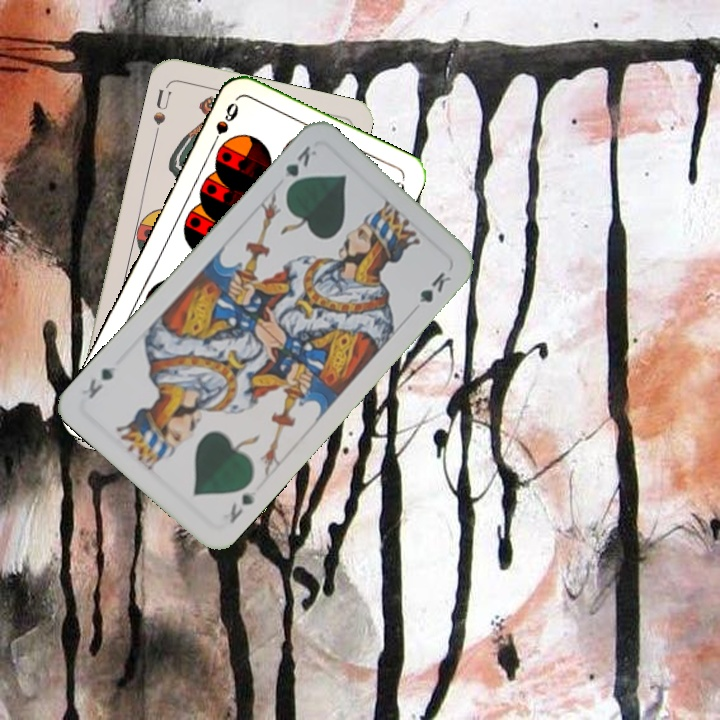GK: (280, 141, 320, 194), (225, 487, 259, 526)
S9: (206, 98, 242, 152)
SU: (148, 85, 174, 140)
